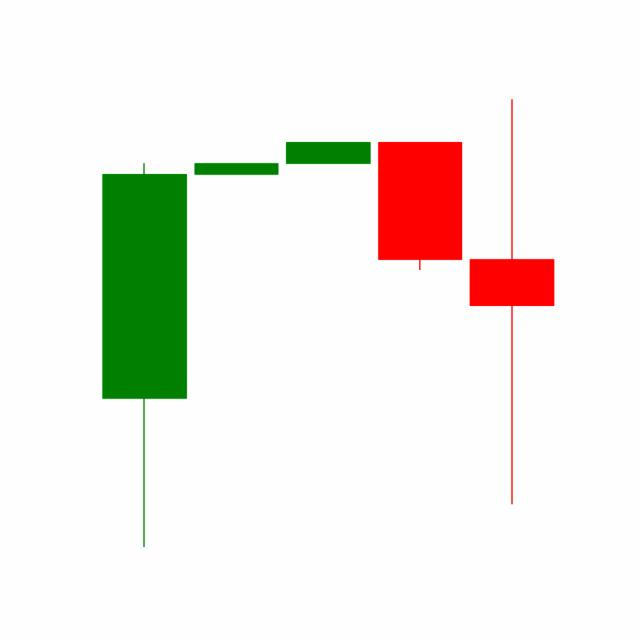Marubozu: (373, 140, 467, 272)
